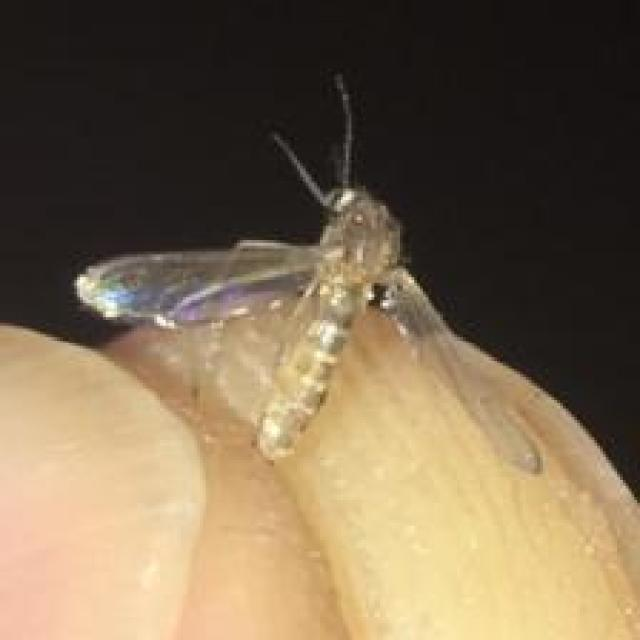Culex: (71, 68, 639, 640)
